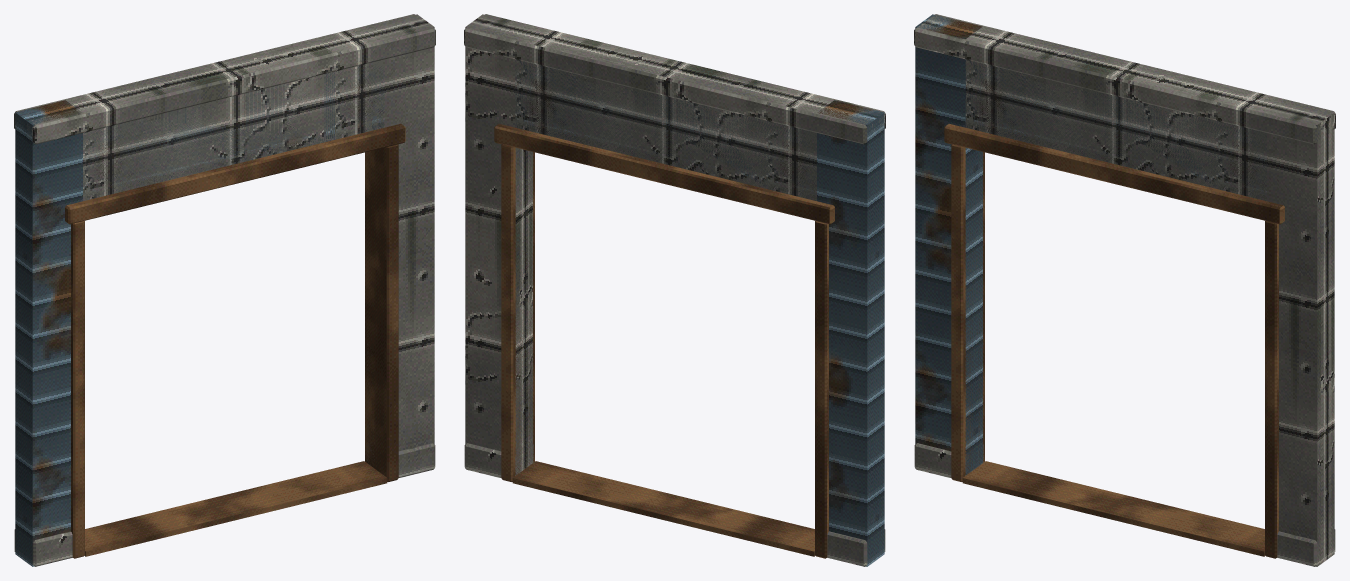
The model's file is wall_siding_blue_door.glb.
3 renders of one model, left to right at view 1: azimuth 30°, elevation 25°; view 2: azimuth 150°, elevation 25°; view 3: azimuth 330°, elevation 25°, orthographic.
Visible parts, largest first — view 1: wall_siding_blue_door_mesh, wall_siding_blue_door_col-colonly.002, wall_siding_blue_door_col-colonly.001; view 2: wall_siding_blue_door_mesh, wall_siding_blue_door_col-colonly.002, wall_siding_blue_door_col-colonly.001; view 3: wall_siding_blue_door_mesh, wall_siding_blue_door_col-colonly.002, wall_siding_blue_door_col-colonly.001.
Boxes of the visible parts, x1,y1,x2,y2 form: wall_siding_blue_door_mesh: (14, 14, 435, 566); wall_siding_blue_door_col-colonly.002: (66, 26, 384, 200); wall_siding_blue_door_col-colonly.001: (367, 14, 434, 464); wall_siding_blue_door_mesh: (464, 14, 885, 566); wall_siding_blue_door_col-colonly.002: (515, 26, 833, 200); wall_siding_blue_door_col-colonly.001: (465, 14, 532, 475); wall_siding_blue_door_mesh: (914, 14, 1335, 566); wall_siding_blue_door_col-colonly.002: (965, 26, 1283, 200); wall_siding_blue_door_col-colonly.001: (1267, 100, 1334, 566).
Size of what is drawn, in the model's own units: 4 by 4.2 by 0.44.
Materials: 3 (3 with a texture image).
